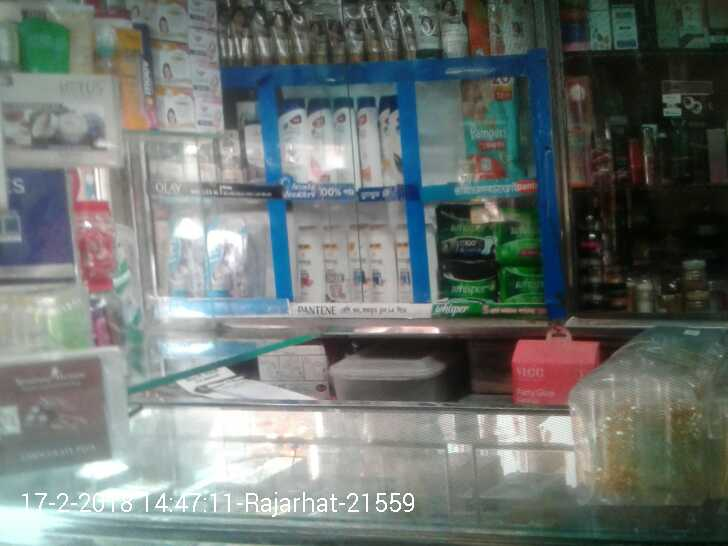venus: (206, 219, 249, 294), (165, 219, 206, 294)
